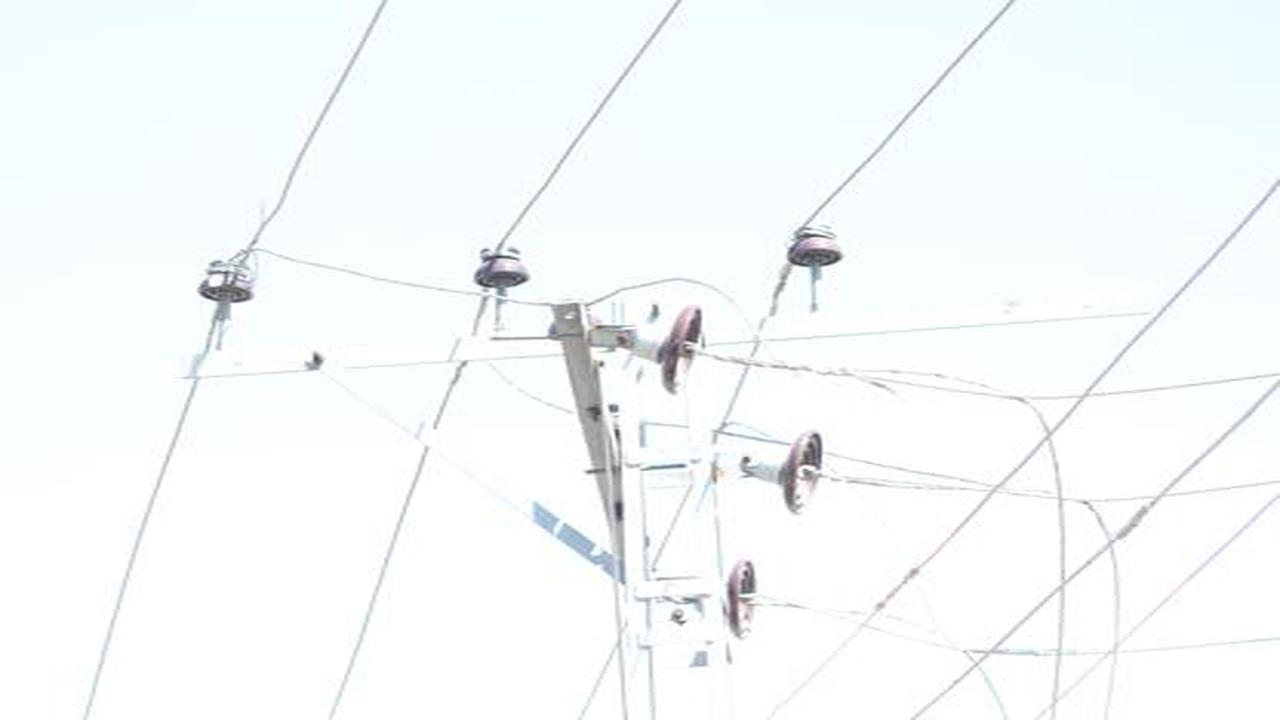defect_pin: (197, 254, 257, 307)
insulator_disc: (638, 305, 704, 395), (765, 430, 827, 510), (716, 556, 760, 640)
insulator_pin: (473, 241, 533, 295), (787, 222, 847, 273)
